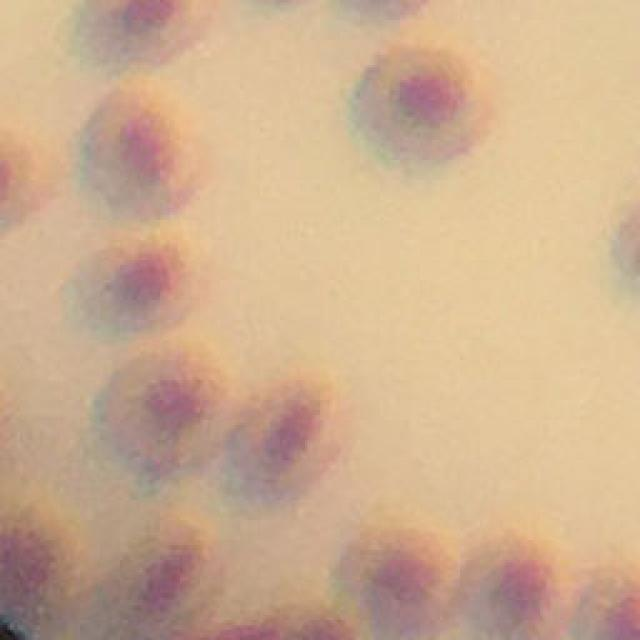RBC: (213, 374, 358, 515), (92, 341, 229, 486), (80, 80, 212, 224), (352, 40, 495, 170), (80, 516, 223, 632), (456, 521, 580, 640), (66, 236, 206, 339), (345, 528, 458, 639), (67, 0, 219, 74), (571, 562, 640, 640)
